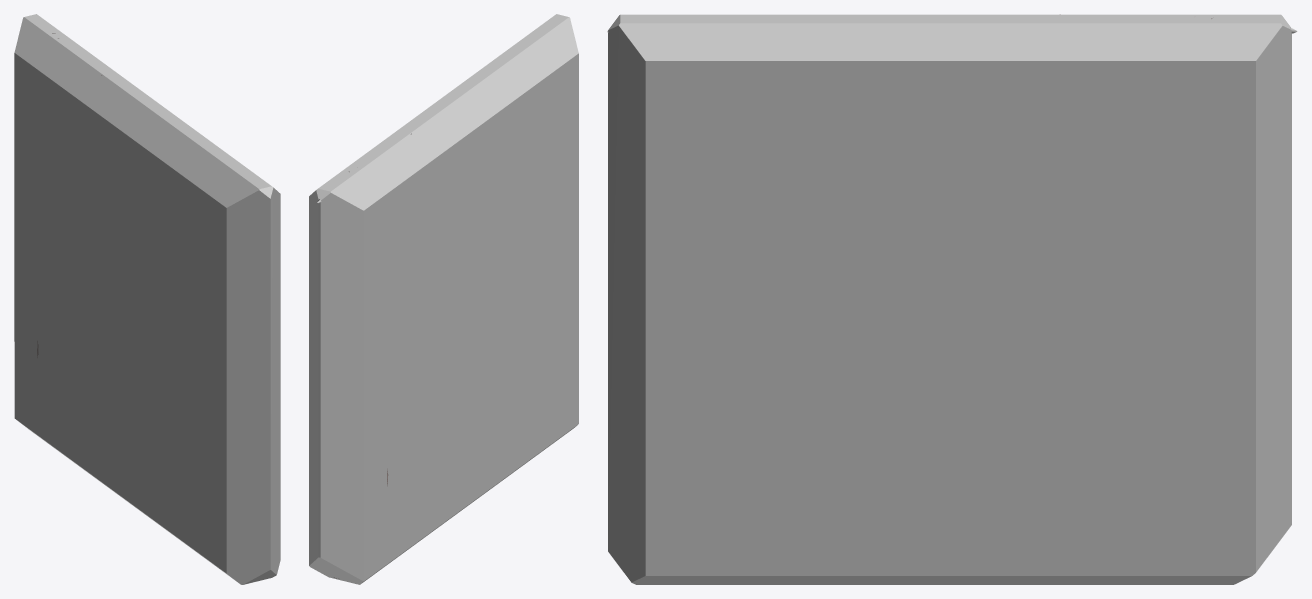
File: SM_His_Sal_Curtain_01.fbx
3 views of the same model, side by side, from view 1: azimuth 30°, elevation 25°; view 2: azimuth 150°, elevation 25°; view 3: azimuth 270°, elevation 25° (orthographic). The views are drawn at different scales.
Visible parts, largest first — view 1: SM_His_Sal_Curtain_01_ConvexHulls; view 2: SM_His_Sal_Curtain_01_ConvexHulls; view 3: SM_His_Sal_Curtain_01_ConvexHulls.
Boxes of the visible parts, x1=… form: SM_His_Sal_Curtain_01_ConvexHulls: x1=14, y1=14, x2=280, y2=584; SM_His_Sal_Curtain_01_ConvexHulls: x1=309, y1=14, x2=578, y2=584; SM_His_Sal_Curtain_01_ConvexHulls: x1=608, y1=14, x2=1291, y2=584.
Size of the model in its own units: 27.72 by 228 by 203.
2 materials, 1 textured.
